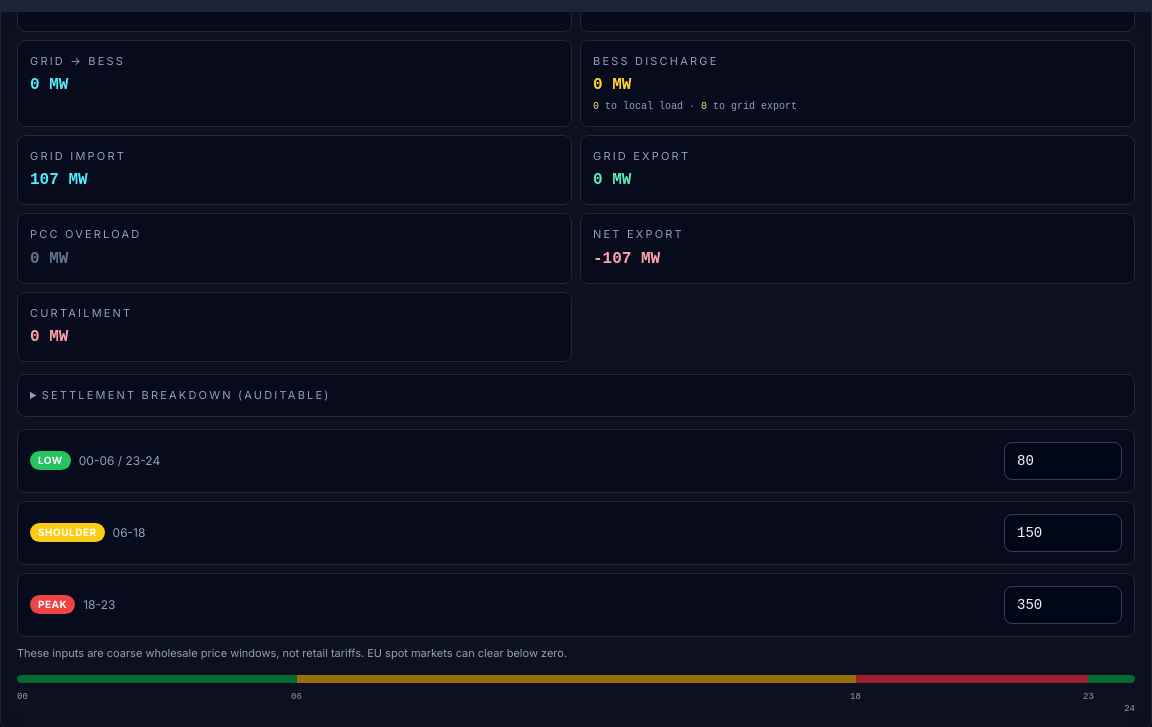
Test: EconomicsPanel cumulative valuation › shows separate export, avoided-import and assumed-value cumulative rows
The image size is (1152, 727).
(page scrolled)
Click the heading "Settlement Breakdown (auditable)": (186, 395) [42, 388, 330, 402]
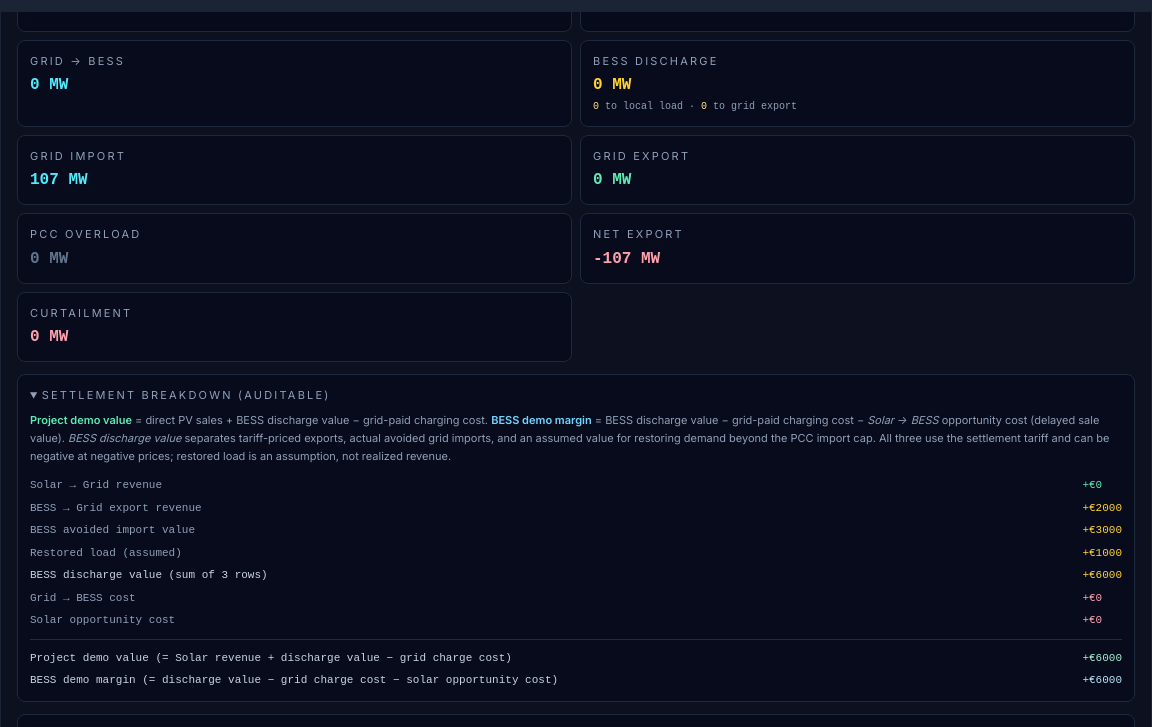
Now the text "+€2000" is shown, box [1082, 500, 1122, 516]
Now the text "+€3000" is shown, box [1082, 522, 1122, 539]
Now the text "+€1000" is shown, box [1082, 545, 1122, 561]
